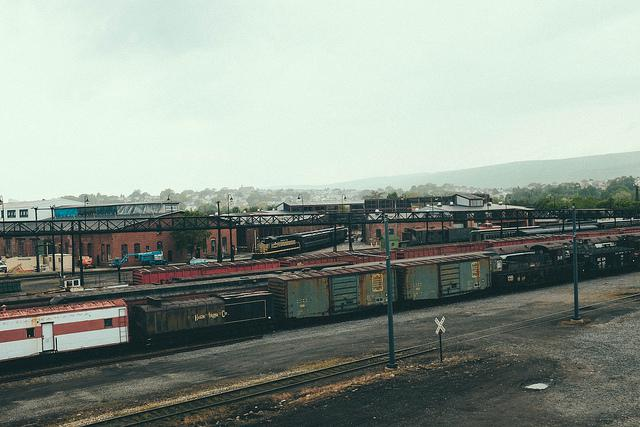Train: (0, 238, 640, 363), (139, 250, 357, 286), (253, 229, 348, 258), (404, 228, 482, 246)
